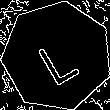L_NW: (31, 26, 83, 86)
